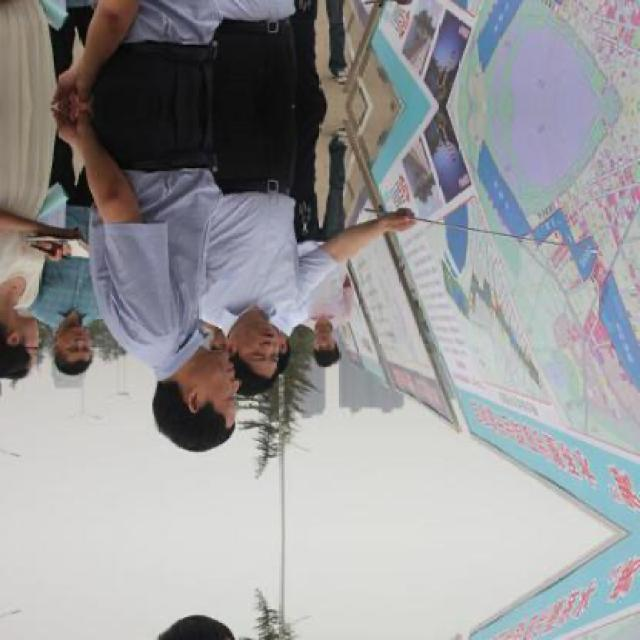con casco: (111, 322, 249, 474), (220, 298, 307, 396)
